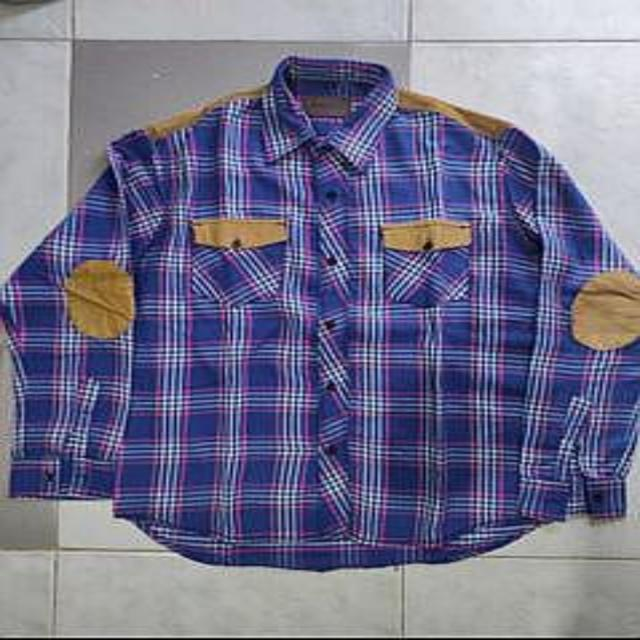SHIRT: (0, 51, 640, 574)
